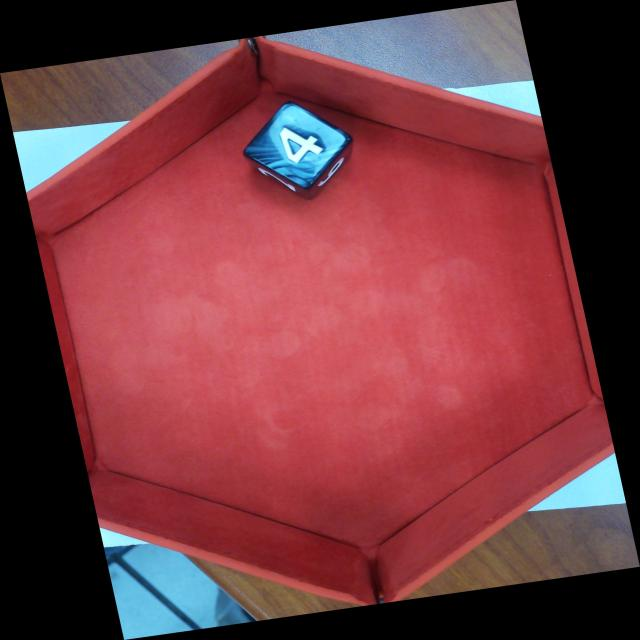dice: (238, 100, 354, 194)
